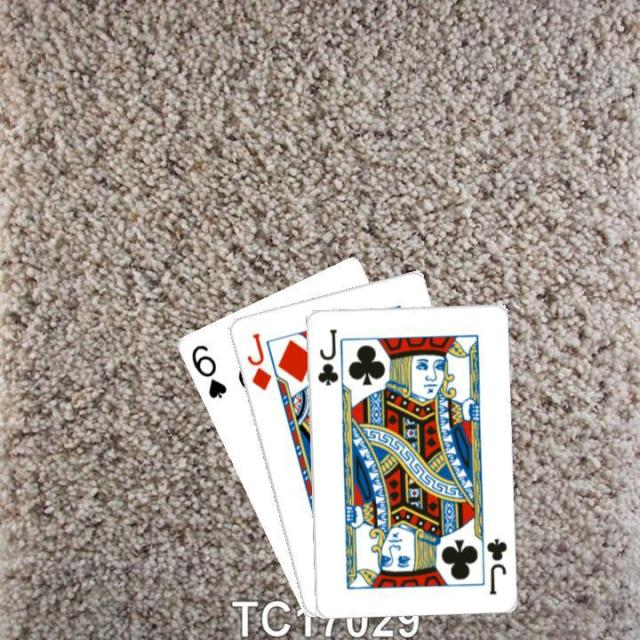6S: (186, 340, 228, 400)
JC: (313, 324, 339, 386), (482, 534, 508, 596)
JD: (243, 329, 273, 393)
